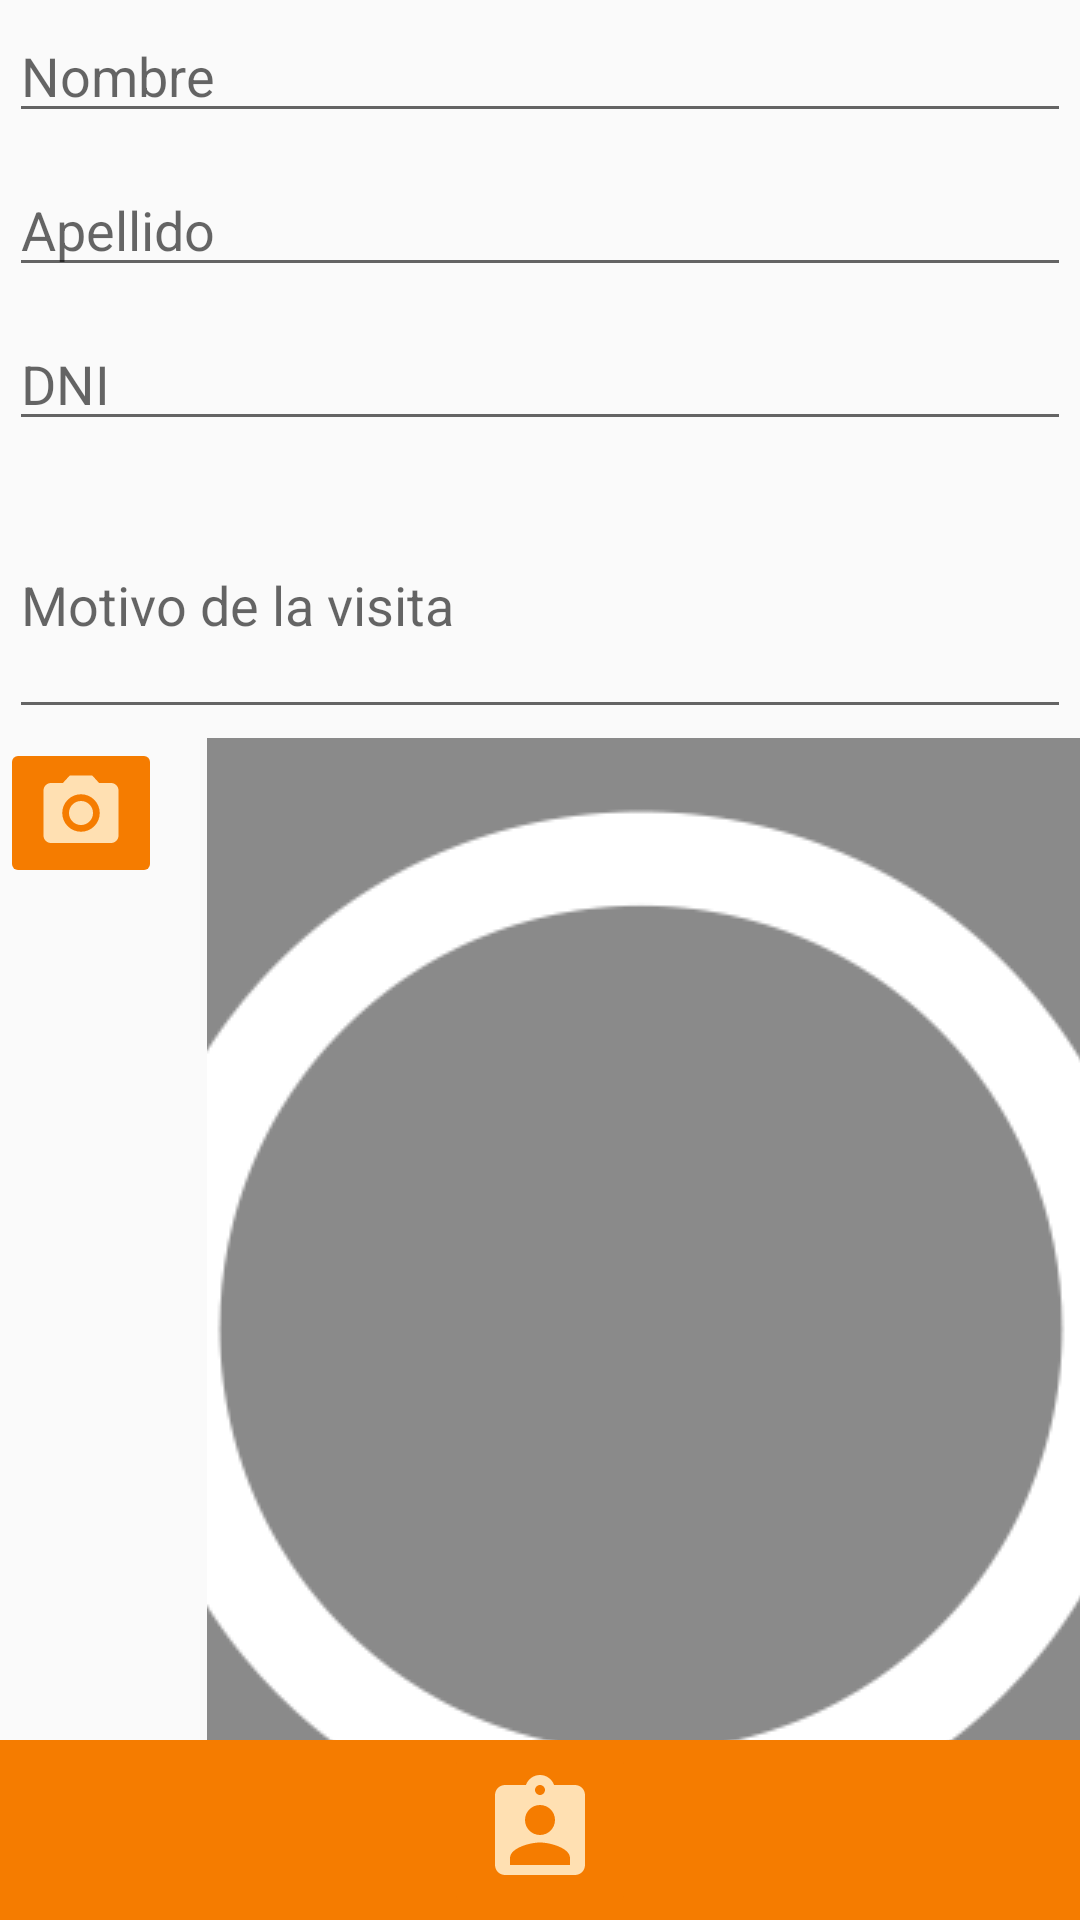

Screen size 1080*1920. Icon name, then its box in pixels as {"x1": x1, "y1": y1, "x2": x2, "y2": y2}:
assignment ind: {"x1": 495, "y1": 1775, "x2": 585, "y2": 1875}
photo camera registro: {"x1": 12, "y1": 756, "x2": 150, "y2": 870}
